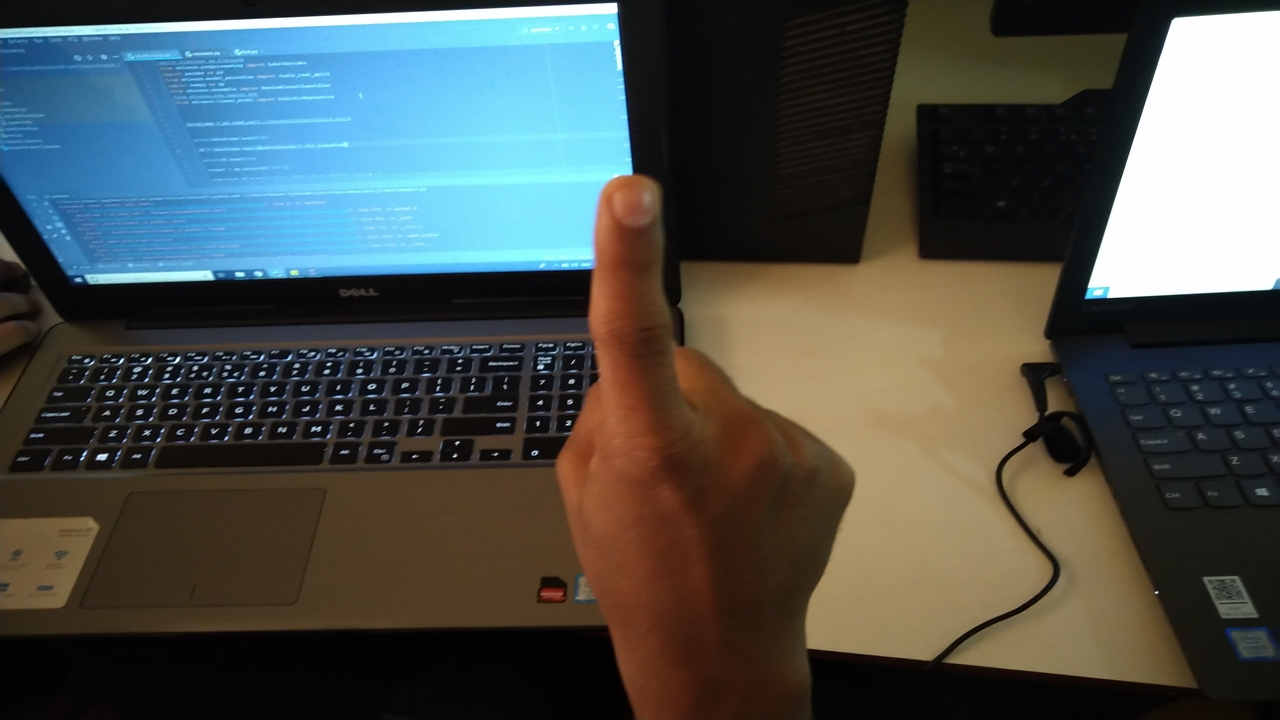fingertip: (588, 164, 664, 238)
